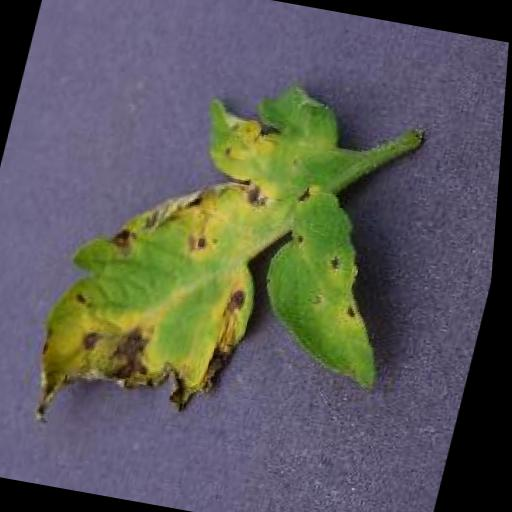Septoria: (23, 57, 451, 479)
